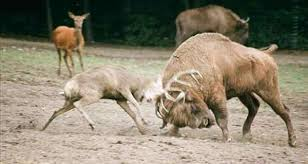zubr: (150, 31, 308, 153), (171, 8, 259, 47)
